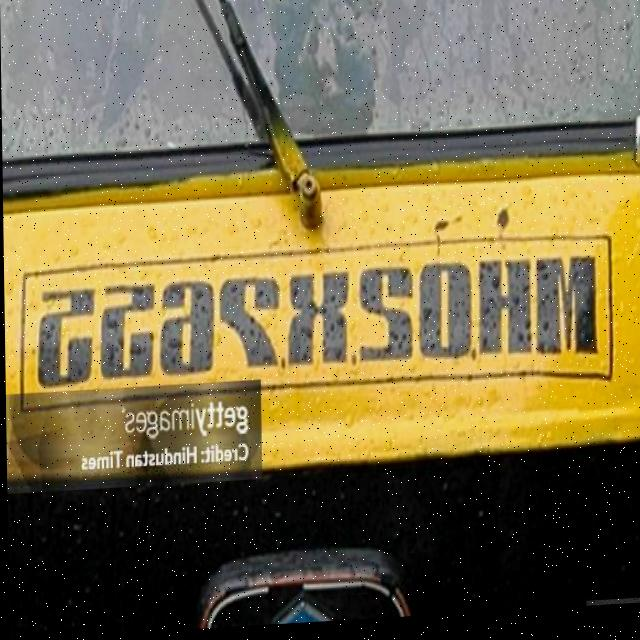plate: (12, 233, 617, 425)
